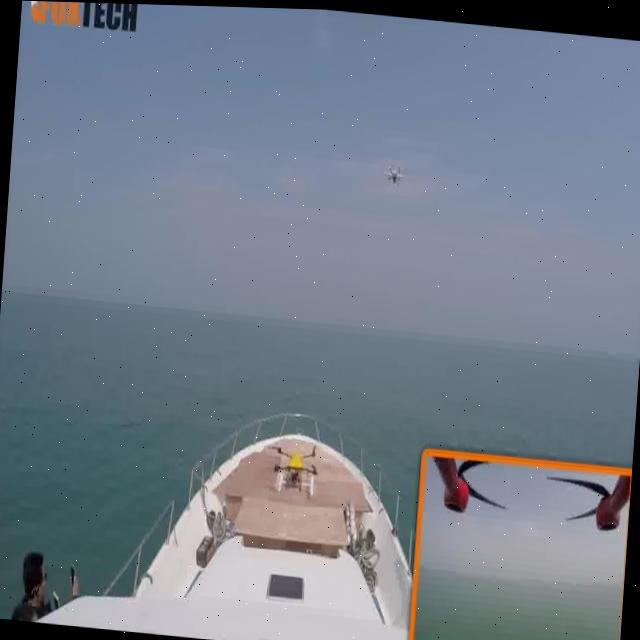drone: (260, 428, 324, 498), (374, 154, 412, 189)
